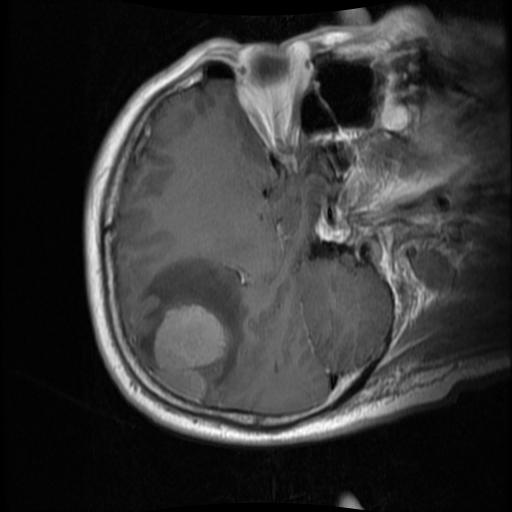meningioma: (153, 305, 225, 372)
